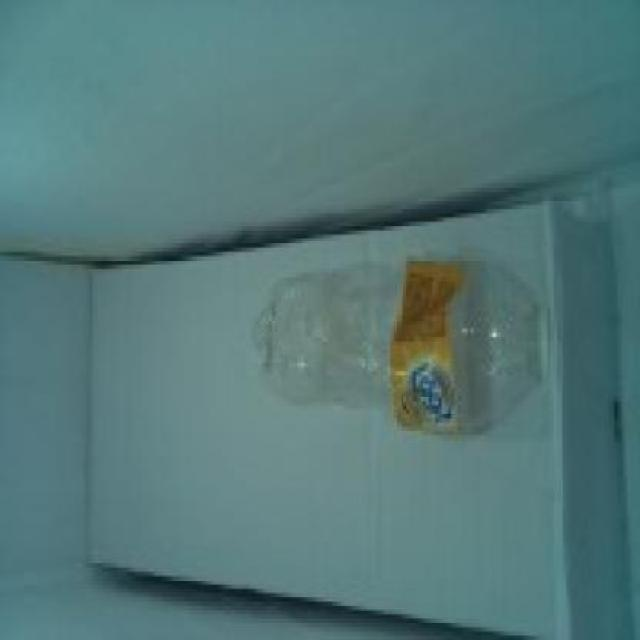Pet_Bottle: (240, 254, 556, 433)
